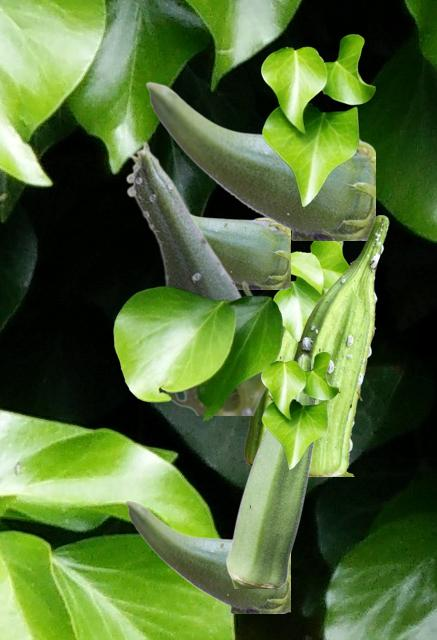okra: (125, 141, 266, 414), (145, 81, 374, 239), (293, 215, 388, 475), (244, 240, 342, 466), (226, 353, 314, 587), (125, 500, 289, 612), (193, 215, 289, 288)
